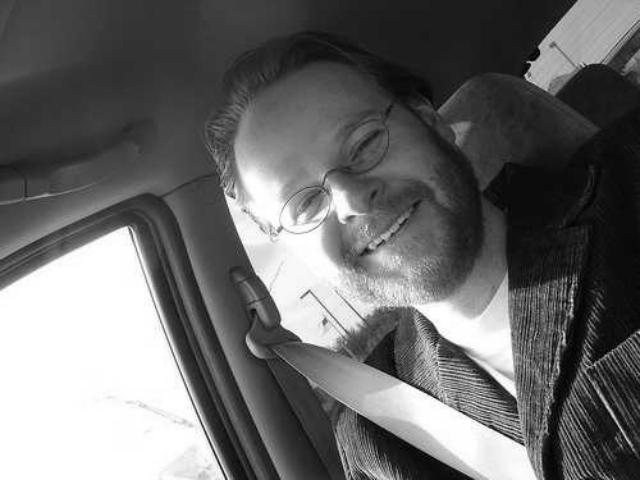Seatbelt: (228, 264, 542, 480)
